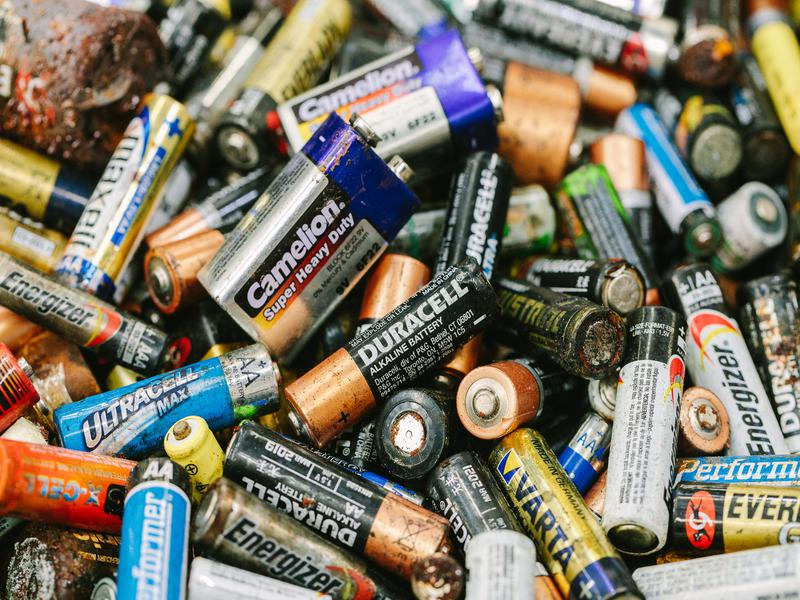battery: (197, 108, 423, 365), (283, 256, 501, 450), (210, 417, 457, 575), (49, 340, 282, 461), (485, 424, 644, 600), (1, 246, 192, 380), (598, 293, 693, 562)
